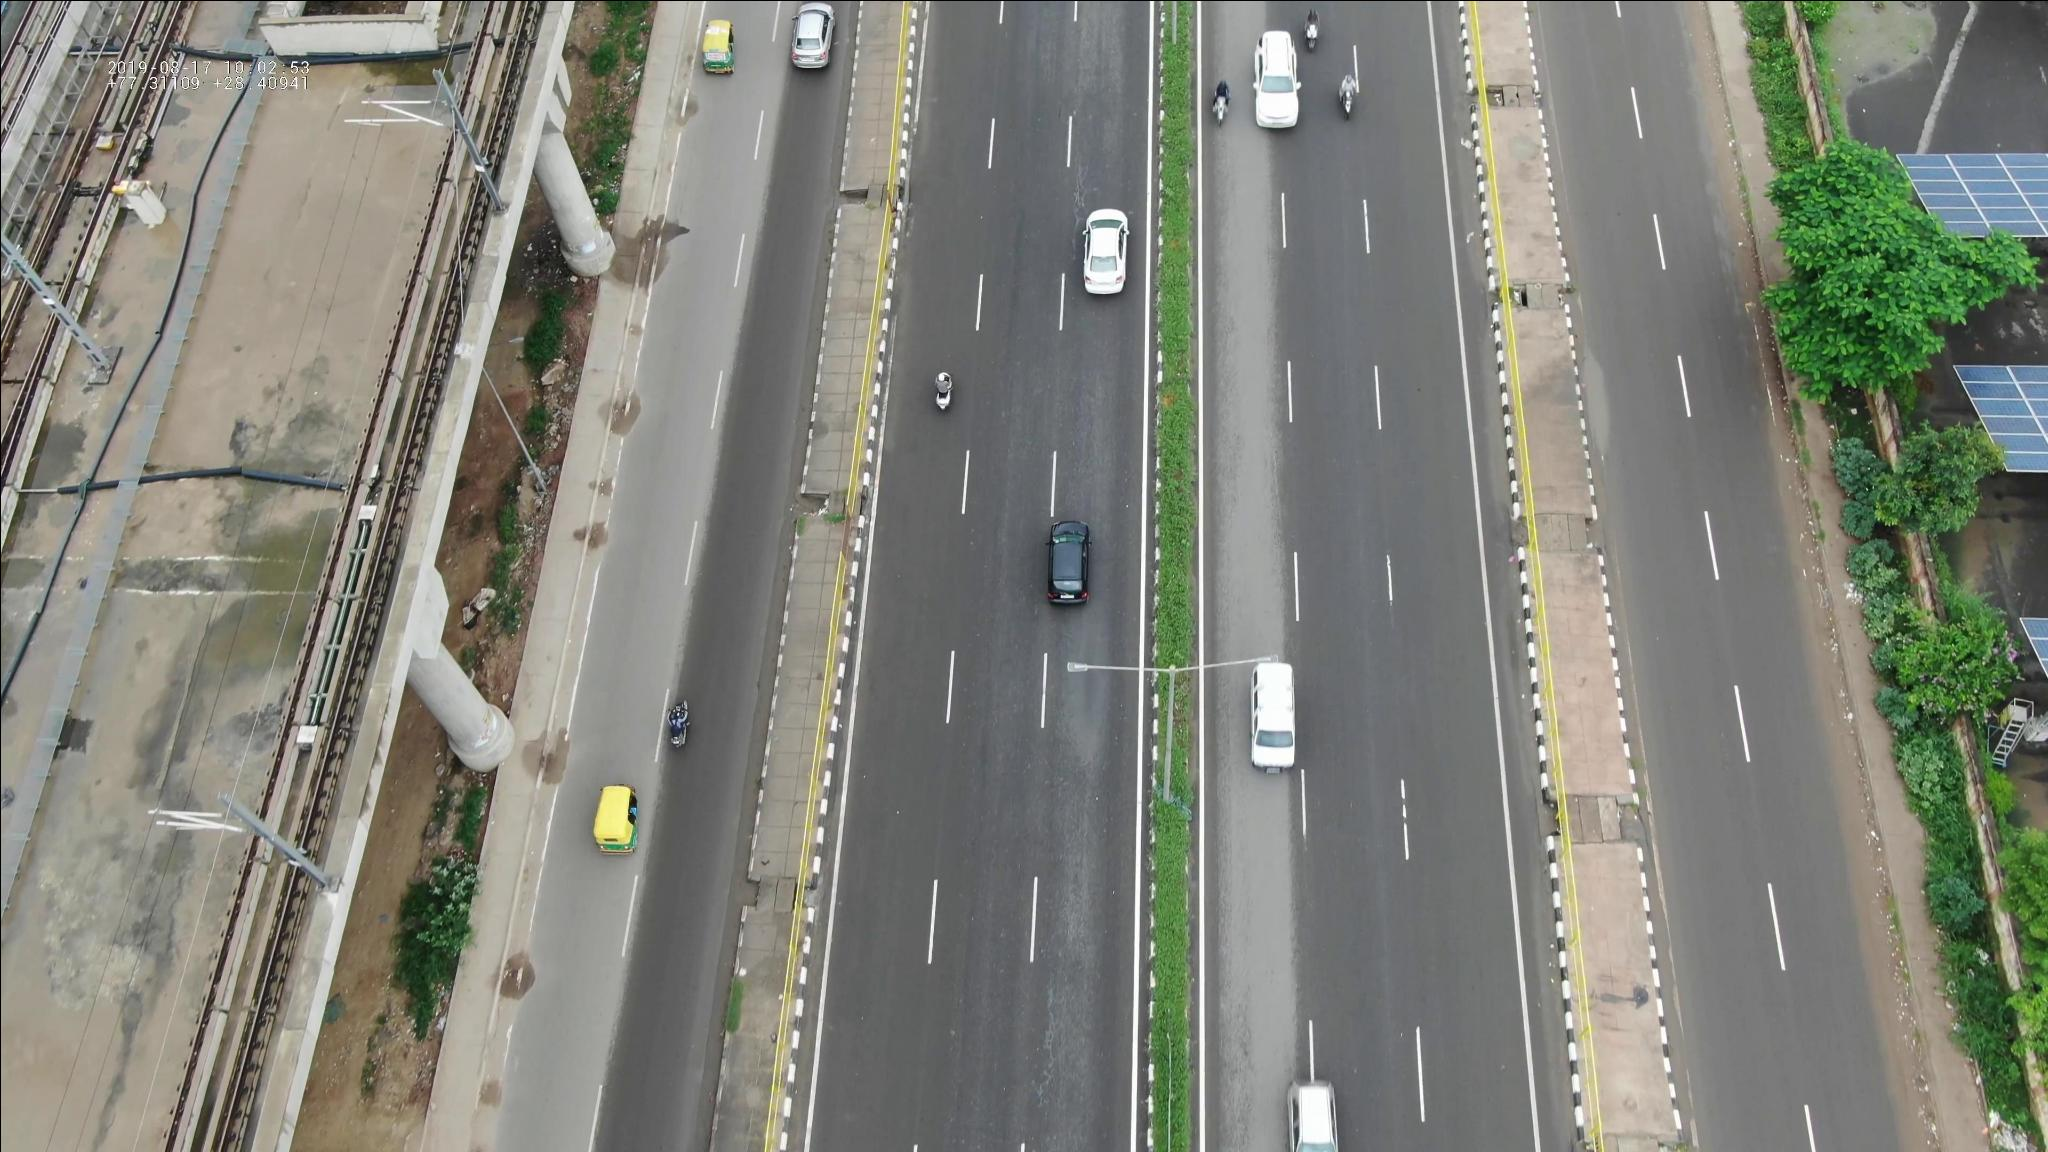Muddy_road: (1826, 745, 1899, 978), (1772, 473, 1830, 648), (1672, 8, 1734, 167)
